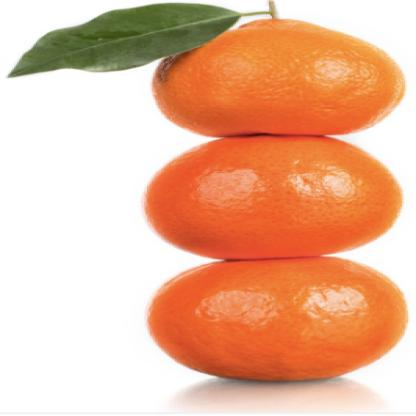fresh: (142, 10, 409, 384)
